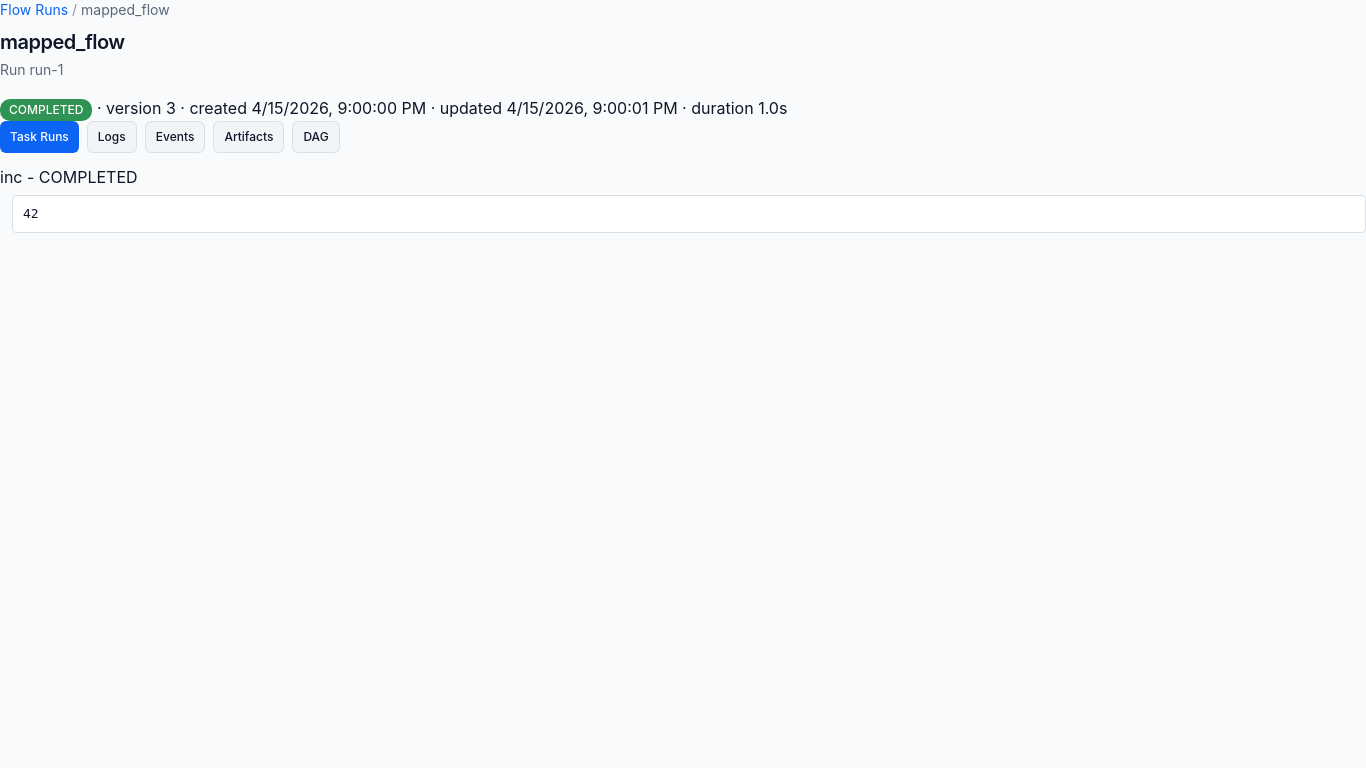
RunDetailPage › renders DAG tab and DAG content
Check: the heading "mapped_flow" is shown, box [0, 28, 125, 56]
Click the tab "DAG".
click(316, 137)  # box [292, 121, 340, 153]
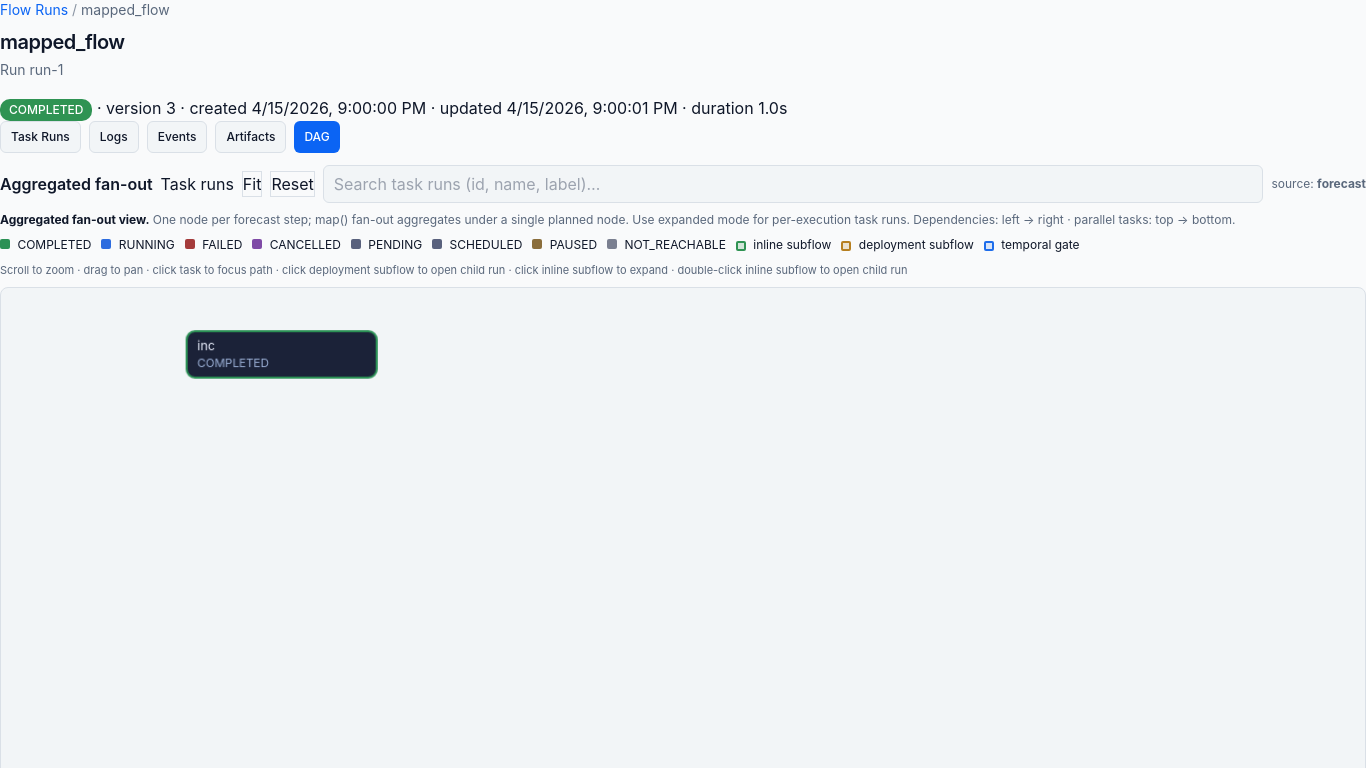
Check: the text "inc" is shown, box [197, 338, 215, 353]
Check: the text "source: forecast" is shown, box [1272, 175, 1365, 193]
